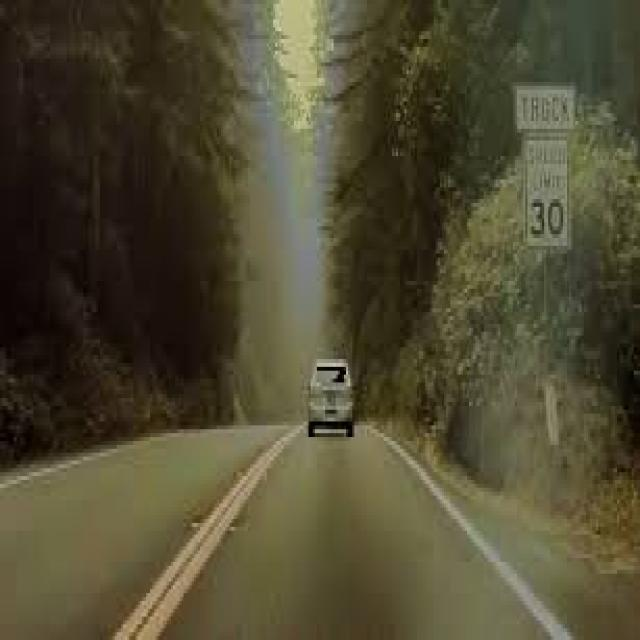speedLimit30: (522, 133, 572, 254)
